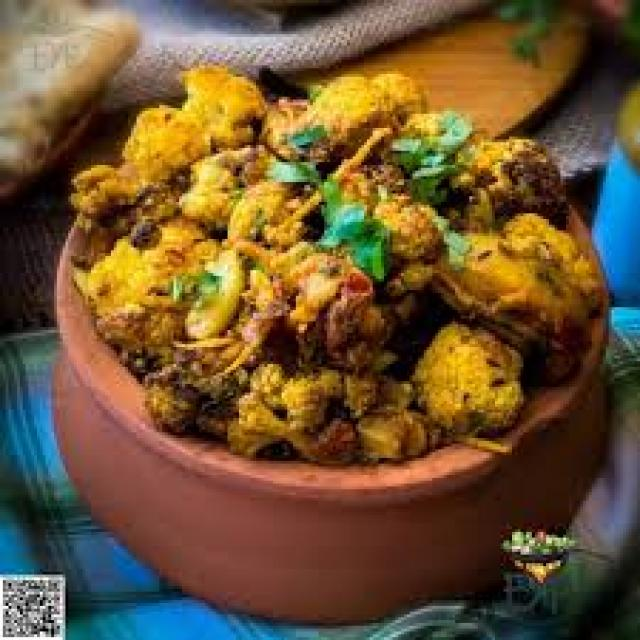Aloo Gobi: (93, 74, 588, 460)
